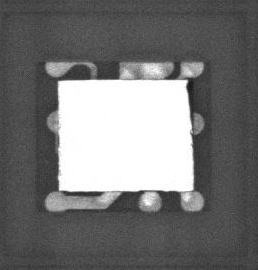DIE_BROKEN: (185, 79, 194, 126)
